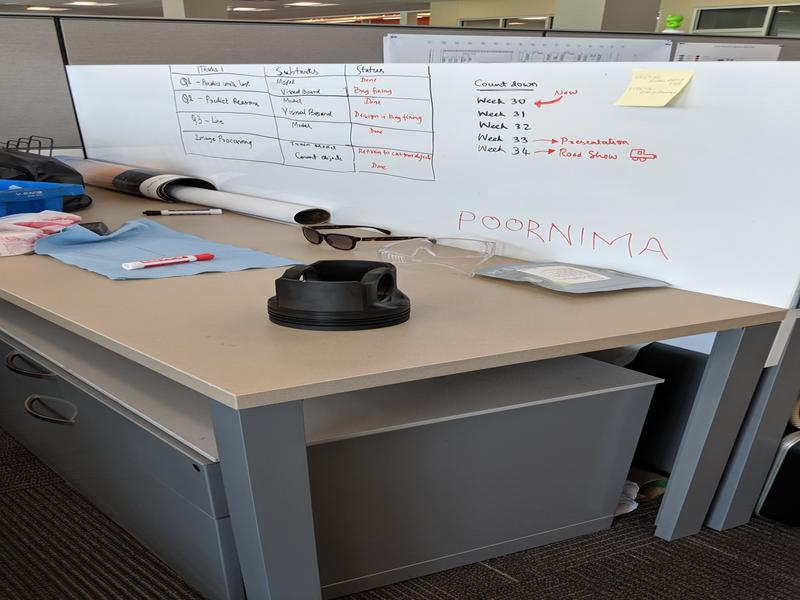piston: (265, 250, 413, 333)
